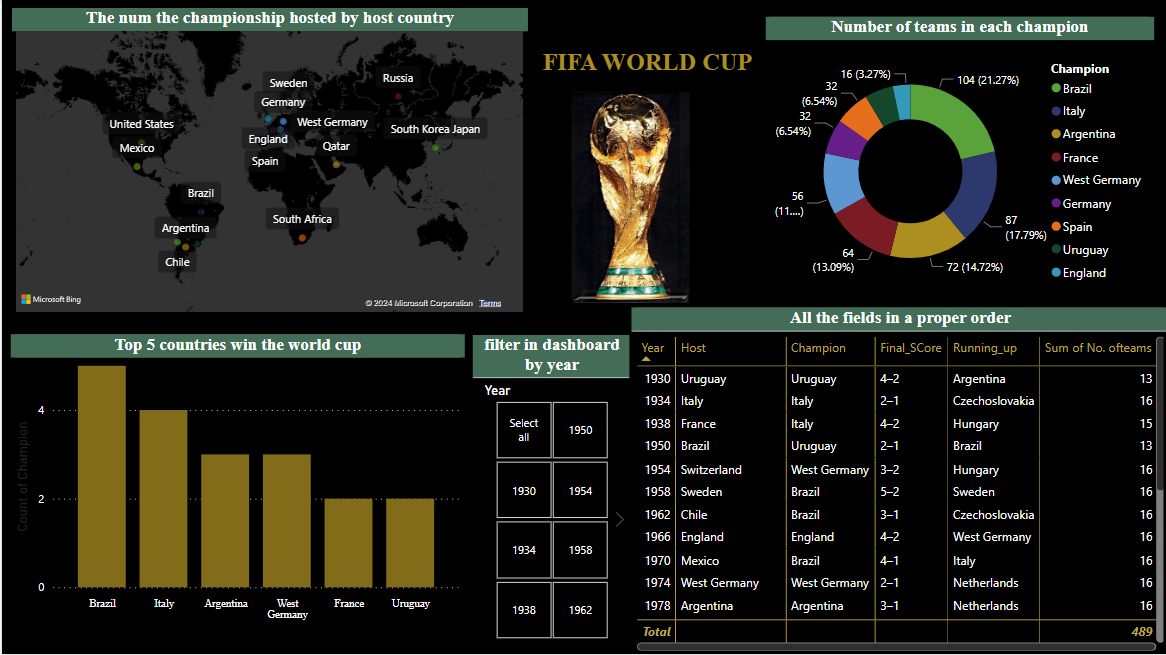

This screenshot's page, from the dashboard's own definition file:
{"tool":"powerbi","page":{"name":"Page 1","canvas":[1280,720],"ordinal":0},"visuals":[{"type":"map","title":"The num the championship hosted by host country ","fields":{"Series":["Results.Champion"],"Category":["Results.Host"]},"box":[10.7,10.7,566.5,339.2],"z":0},{"type":"columnChart","title":"Top 5 countries win the world cup","fields":{"Y":["CountNonNull(Results.Champion)"],"Category":["Results.Champion"]},"box":[9.5,368.9,498.6,339.2],"z":1000},{"type":"donutChart","title":"Number of teams in each champion","fields":{"Y":["Sum(Results.No. ofteams)"],"Category":["Results.Champion"]},"box":[839,20.2,426,318.9],"z":2000},{"type":"tableEx","title":"All the fields in a proper order","fields":{"Values":["Results.Year","Results.Host","Results.Champion","Results.Final_SCore","Results.Running_up","Sum(Results.No. ofteams)"]},"box":[690.2,339.2,590.3,380.8],"z":3000},{"type":"slicer","title":"filter in dashboard by year","fields":{"Values":["Results.Year"]},"box":[516.5,368.9,173.8,339.2],"z":4000},{"type":"image","box":[615.3,90.4,150,248.7],"z":5000},{"type":"textbox","box":[577.2,51.2,261.8,52.4],"z":6000}]}

Visuals, with their boxes in screenshot pixels (x1, y1, x2, y2), scaled from the page's 1280x720 canvas onto the 1166x655 screenshot:
"The num the championship hosted by host country " map: (10, 10, 526, 318)
"Top 5 countries win the world cup" columnChart: (9, 336, 463, 644)
"Number of teams in each champion" donutChart: (764, 18, 1152, 308)
"All the fields in a proper order" tableEx: (629, 309, 1165, 654)
"filter in dashboard by year" slicer: (470, 336, 629, 644)
image: (560, 82, 697, 308)
textbox: (526, 47, 764, 94)
